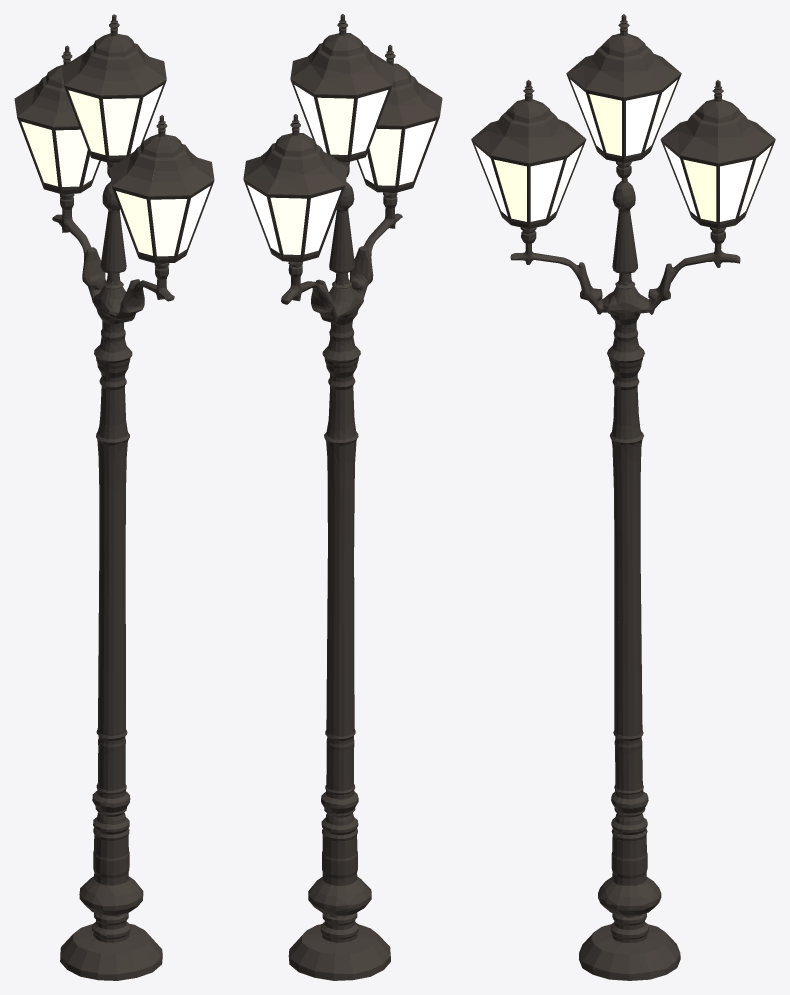
The model's file is StreetLamp_001.fbx.
3 views of the same model, side by side, from view 1: azimuth 30°, elevation 25°; view 2: azimuth 150°, elevation 25°; view 3: azimuth 270°, elevation 25° (orthographic).
Visible parts, largest first — view 1: lamp_lamp_0, lamp_lumierre_0; view 2: lamp_lamp_0, lamp_lumierre_0; view 3: lamp_lamp_0, lamp_lumierre_0.
Part boxes in pixels (bbox=[...]): lamp_lamp_0: bbox=[14, 14, 214, 980]; lamp_lumierre_0: bbox=[21, 85, 210, 256]; lamp_lamp_0: bbox=[243, 14, 442, 980]; lamp_lumierre_0: bbox=[247, 85, 435, 254]; lamp_lamp_0: bbox=[471, 14, 775, 980]; lamp_lumierre_0: bbox=[475, 80, 771, 221].
Bounding box in the file's own units: 33.03 × 299 × 87.3.
